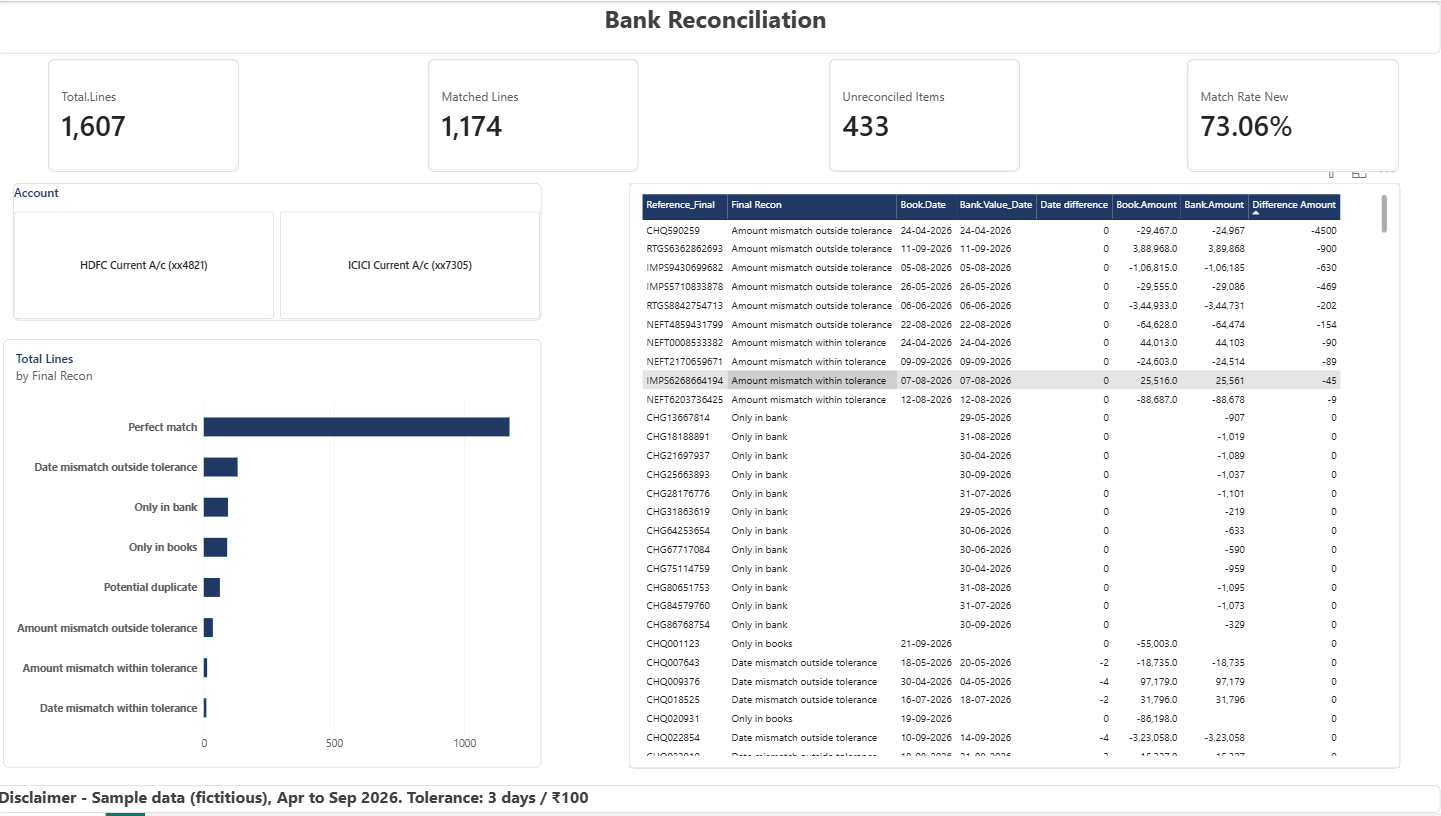

The dashboard page shown, as its layout file describes it:
{"tool":"powerbi","page":{"name":"Bank Reconciliation","canvas":[1920,1080],"ordinal":0},"visuals":[{"type":"cardVisual","fields":{"Data":["Recon.Total.Lines"]},"box":[68.3,76.7,253.8,149.8],"z":0},{"type":"cardVisual","fields":{"Data":["Recon.Unreconciled Items"]},"box":[1106.1,77.2,253.8,150],"z":2000},{"type":"clusteredBarChart","fields":{"Category":["Recon.Final Recon"],"Y":["Recon.Total Lines"]},"box":[8.6,450,715.7,570],"z":6000},{"type":"tableEx","fields":{"Values":["Recon.Reference_Final","Recon.Final Recon","Recon.Book.Date","Recon.Bank.Value_Date","Recon.Date difference","Recon.Book.Amount","Recon.Bank.Amount","Recon.Difference Amount"]},"box":[840,241.4,1025.7,778.6],"z":7000},{"type":"advancedSlicerVisual","fields":{"Values":["Recon.Account"]},"box":[21.4,241.4,702.9,182.9],"z":8000},{"type":"textbox","box":[0,0,1920,70],"z":8001},{"type":"textbox","box":[0,1042.9,1920,37.1],"z":8002},{"type":"cardVisual","fields":{"Data":["Recon.Matched Lines"]},"box":[573.9,77.2,280.4,149.9],"z":8003},{"type":"cardVisual","fields":{"Data":["Recon.Match Rate New"]},"box":[1583.2,77.2,281.9,149.9],"z":8004}]}

Visuals, with their boxes in screenshot pixels (x1, y1, x2, y2), scaled from the page's 1920x1080 canvas onto the 1441x816 screenshot:
cardVisual - Recon.Total.Lines: detection(51, 58, 242, 171)
cardVisual - Recon.Unreconciled Items: detection(830, 58, 1021, 172)
clusteredBarChart - Recon.Final Recon x Recon.Total Lines: detection(6, 340, 544, 771)
tableEx - Recon.Reference_Final x Recon.Final Recon: detection(630, 182, 1400, 771)
advancedSlicerVisual - Recon.Account: detection(16, 182, 544, 321)
textbox: detection(0, 0, 1440, 53)
textbox: detection(0, 788, 1440, 815)
cardVisual - Recon.Matched Lines: detection(431, 58, 641, 172)
cardVisual - Recon.Match Rate New: detection(1188, 58, 1400, 172)
